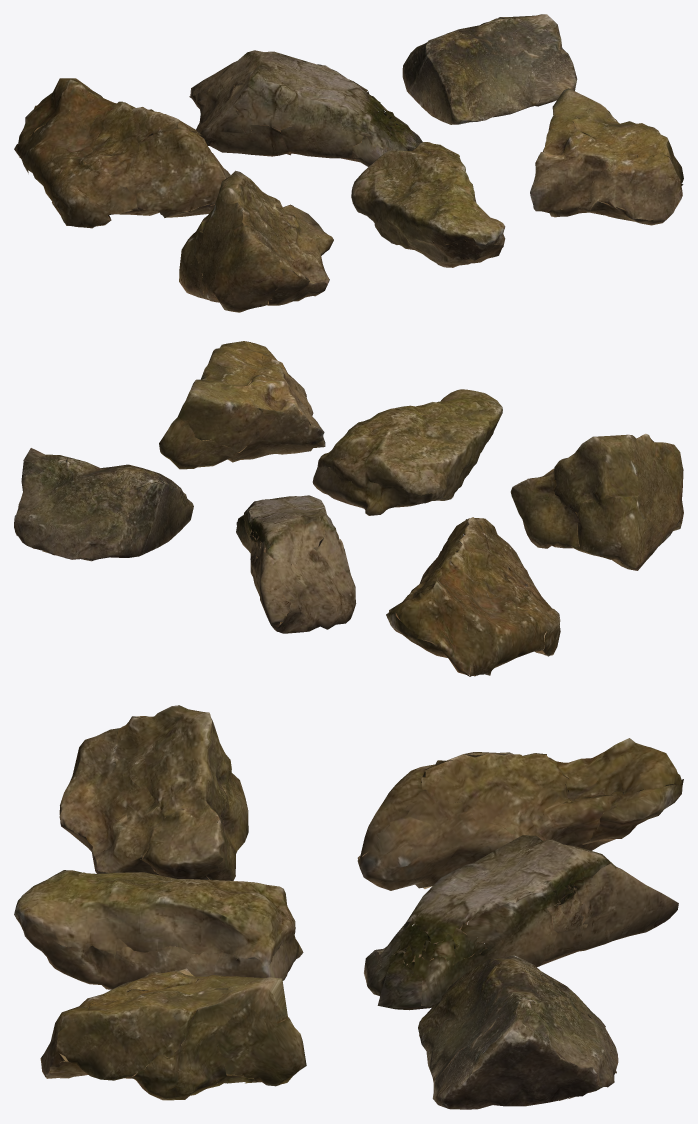
Rendered from mossy-rocks.glb.
3 views of the same model, one above another, from view 1: azimuth 30°, elevation 25°; view 2: azimuth 150°, elevation 25°; view 3: azimuth 270°, elevation 25° (orthographic). The views are drawn at different scales.
Parts seen in each view (by area): view 1: rock_moss_set_01_rock01, rock_moss_set_01_rock02, rock_moss_set_01_rock06, rock_moss_set_01_rock04, rock_moss_set_01_rock03, rock_moss_set_01_rock05; view 2: rock_moss_set_01_rock04, rock_moss_set_01_rock01, rock_moss_set_01_rock05, rock_moss_set_01_rock03, rock_moss_set_01_rock06, rock_moss_set_01_rock02; view 3: rock_moss_set_01_rock01, rock_moss_set_01_rock02, rock_moss_set_01_rock05, rock_moss_set_01_rock04, rock_moss_set_01_rock06, rock_moss_set_01_rock03.
Boxes of the visible parts, box(x1,y1,x2,y2) form: rock_moss_set_01_rock01: box(14, 78, 230, 228); rock_moss_set_01_rock02: box(189, 50, 422, 166); rock_moss_set_01_rock06: box(530, 88, 683, 225); rock_moss_set_01_rock04: box(179, 170, 333, 312); rock_moss_set_01_rock03: box(402, 14, 577, 124); rock_moss_set_01_rock05: box(351, 142, 505, 267); rock_moss_set_01_rock04: box(510, 433, 683, 570); rock_moss_set_01_rock01: box(386, 517, 560, 676); rock_moss_set_01_rock05: box(312, 389, 502, 515); rock_moss_set_01_rock03: box(14, 448, 193, 561); rock_moss_set_01_rock06: box(159, 341, 325, 469); rock_moss_set_01_rock02: box(236, 495, 356, 633); rock_moss_set_01_rock01: box(357, 738, 683, 890); rock_moss_set_01_rock02: box(364, 835, 678, 1010); rock_moss_set_01_rock05: box(14, 870, 303, 989); rock_moss_set_01_rock04: box(59, 705, 248, 880); rock_moss_set_01_rock06: box(40, 968, 306, 1100); rock_moss_set_01_rock03: box(418, 955, 618, 1109).
Size of the model in its own units: 7.99 by 1.77 by 6.96.
Materials: 1 (1 with a texture image).
